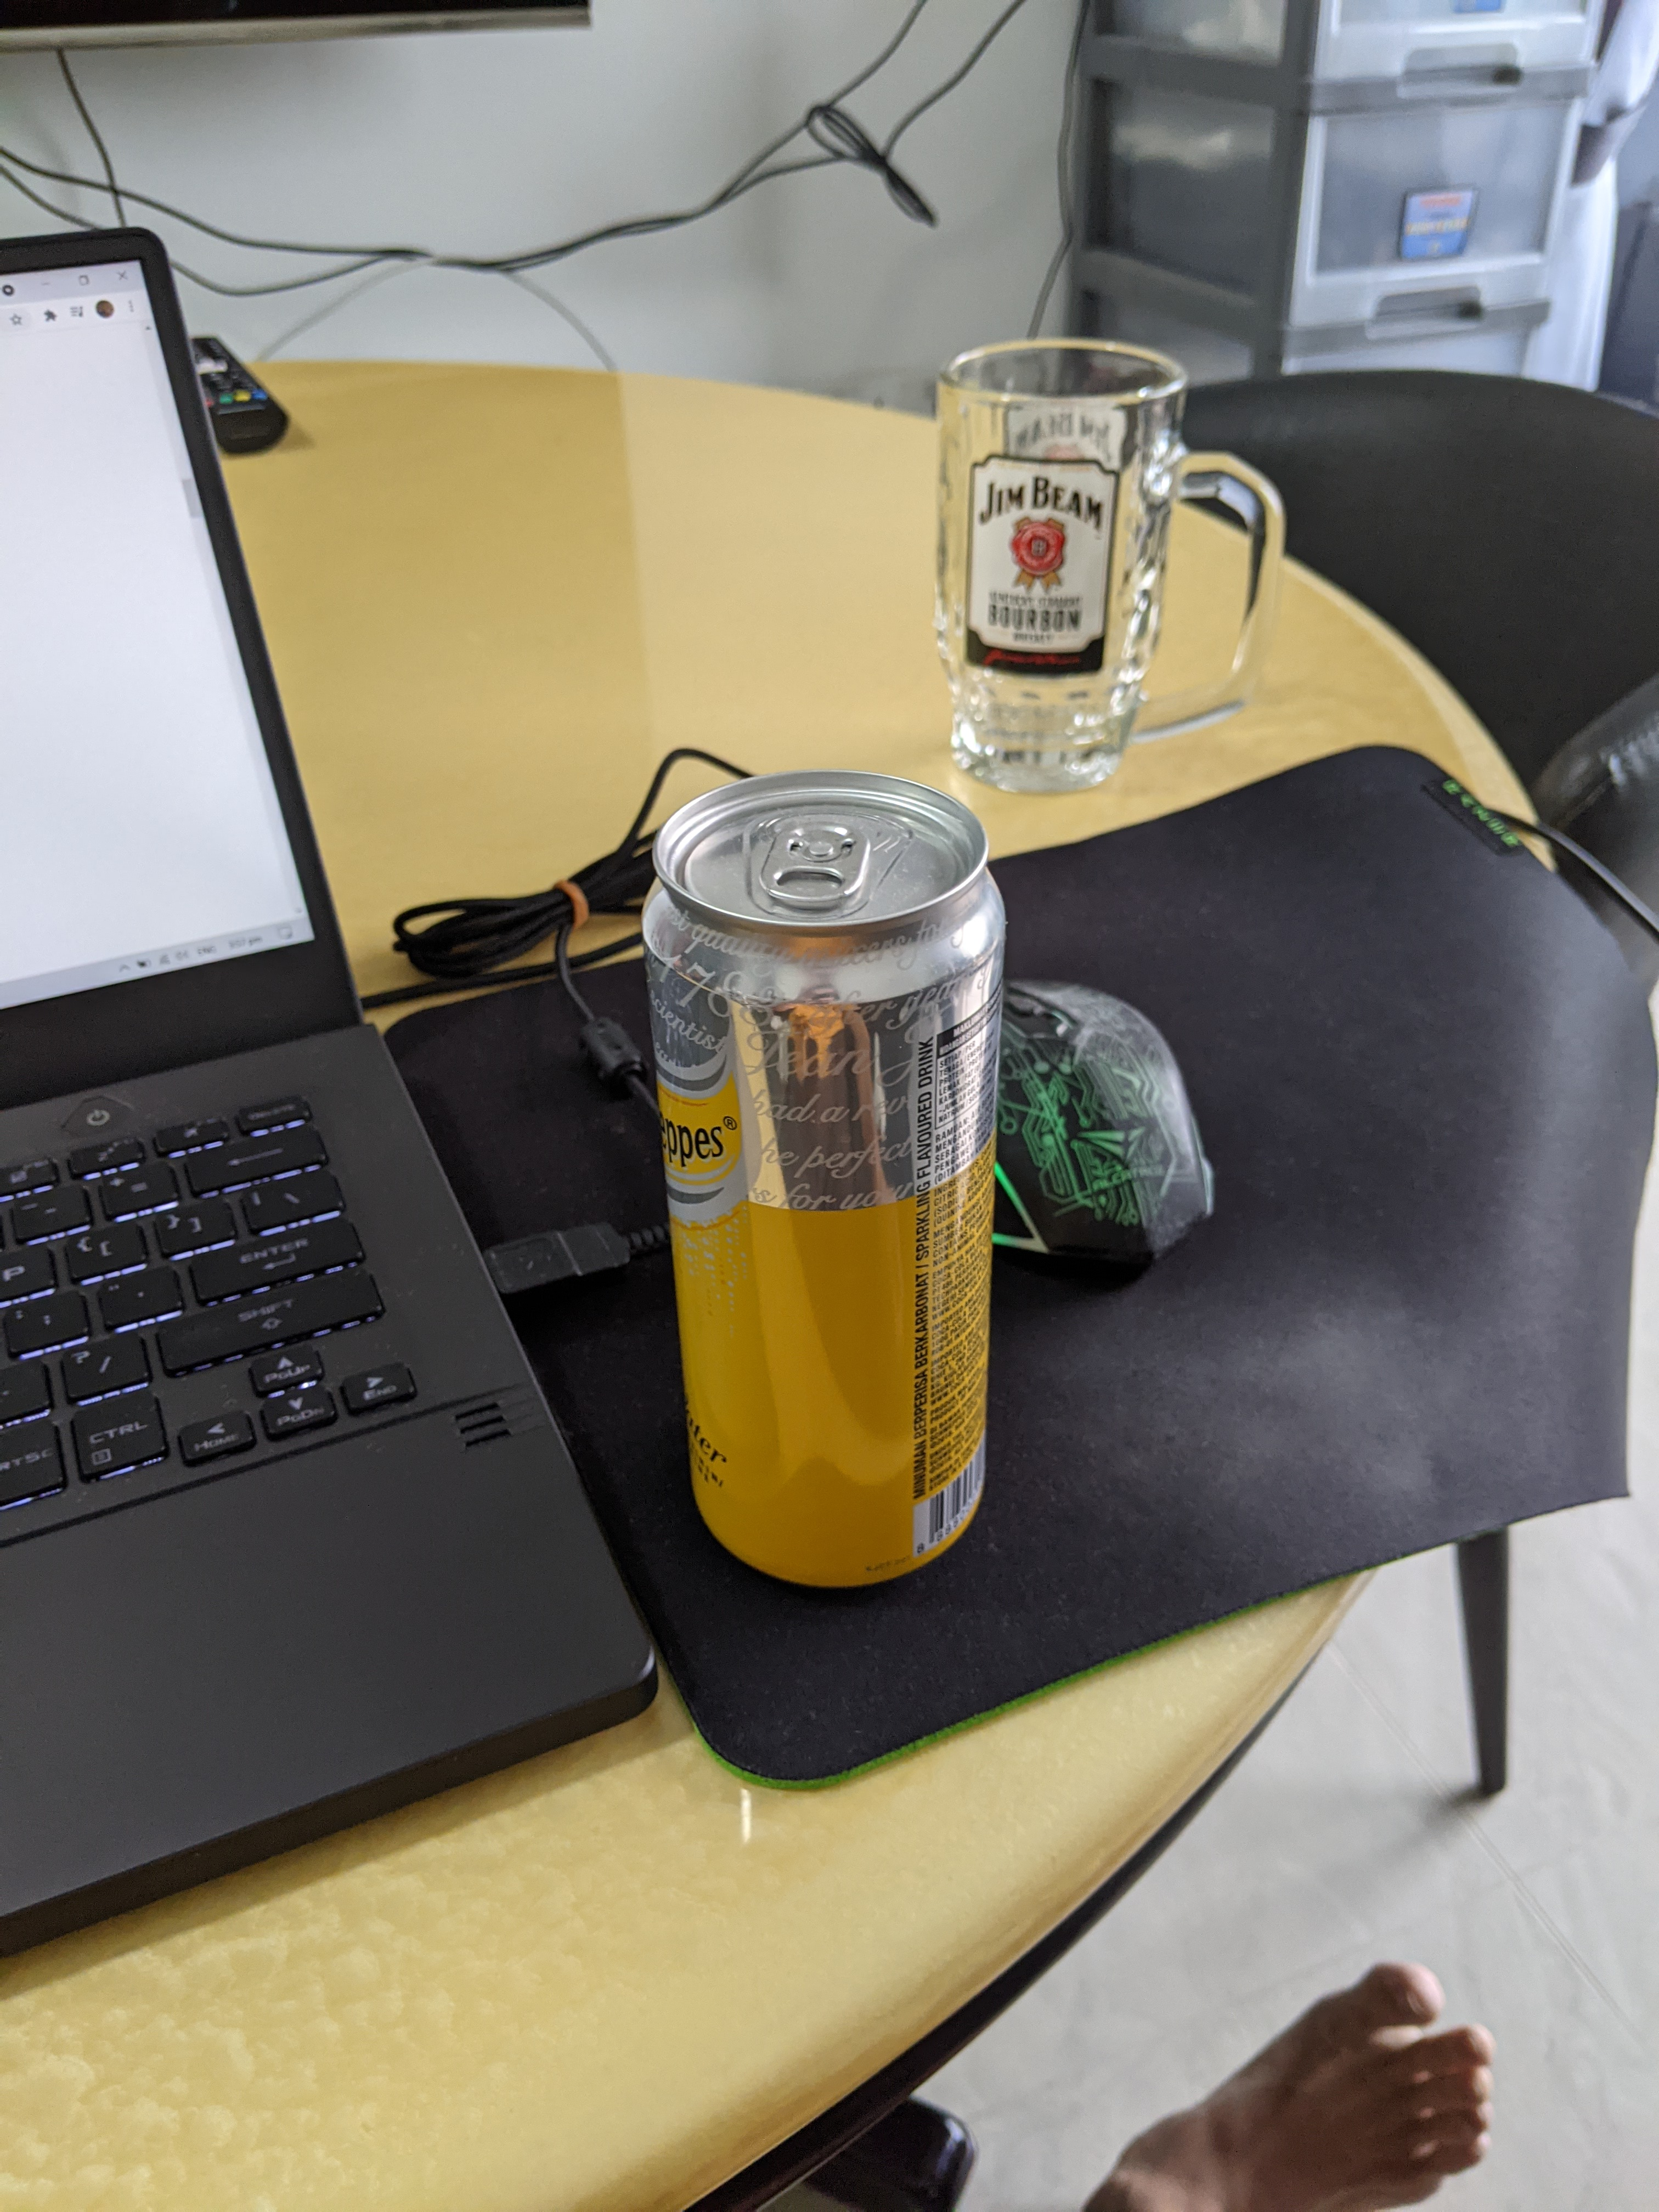schweppes drink can tonic water: (633, 751, 1016, 1629)
